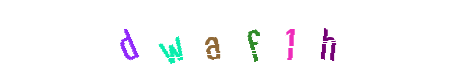1: (249, 0, 329, 80)
A: (191, 0, 271, 80)
D: (88, 0, 168, 80)
F: (195, 0, 275, 80)
H: (287, 0, 367, 80)
W: (133, 0, 213, 80)
